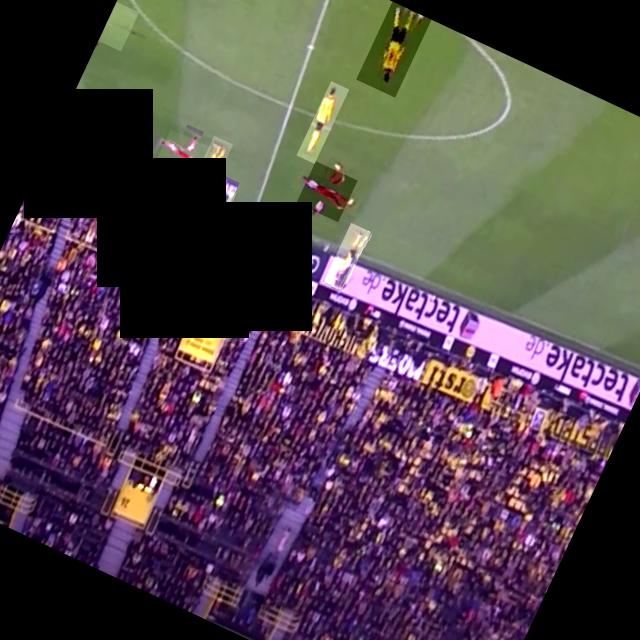ball: (226, 190, 237, 203)
soccer-player: (356, 0, 430, 96), (296, 80, 348, 163), (296, 160, 357, 221), (322, 222, 370, 290), (152, 128, 210, 184), (89, 126, 134, 192), (188, 134, 232, 200), (196, 174, 238, 234), (98, 0, 138, 50)
